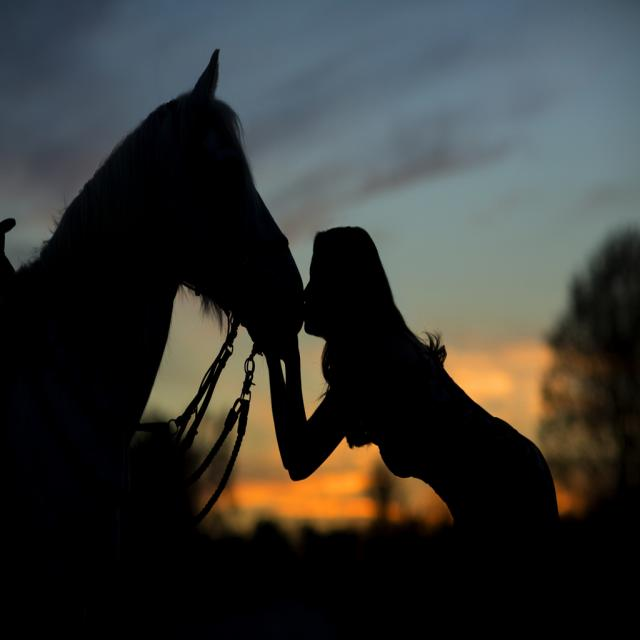Horse: (0, 47, 304, 598)
